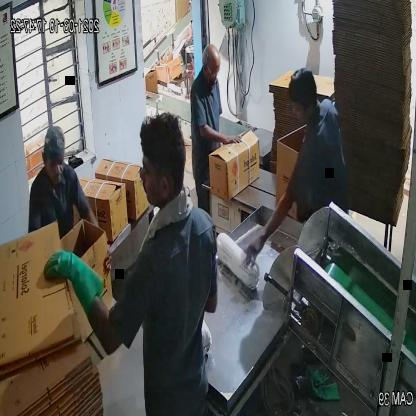glove: (42, 239, 108, 327)
no_glove: (240, 180, 303, 277), (194, 117, 251, 158)
